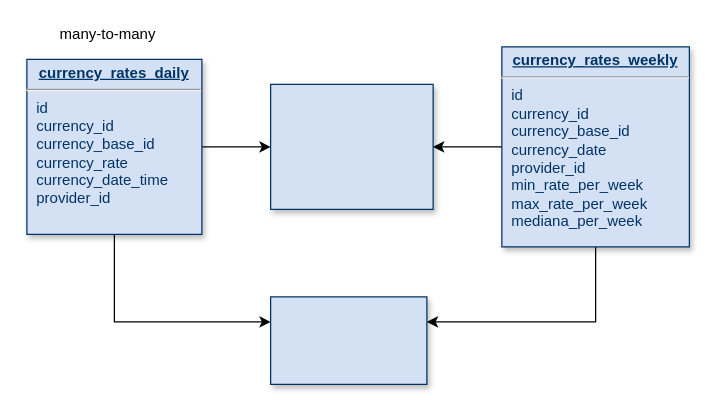
Image size: 719x415. Some labels were removed from this diagram. Each missing label, with the centre of its shape:
currencies id currency_alias: pixel 349 342
providers id provider_name description: pixel 352 148
